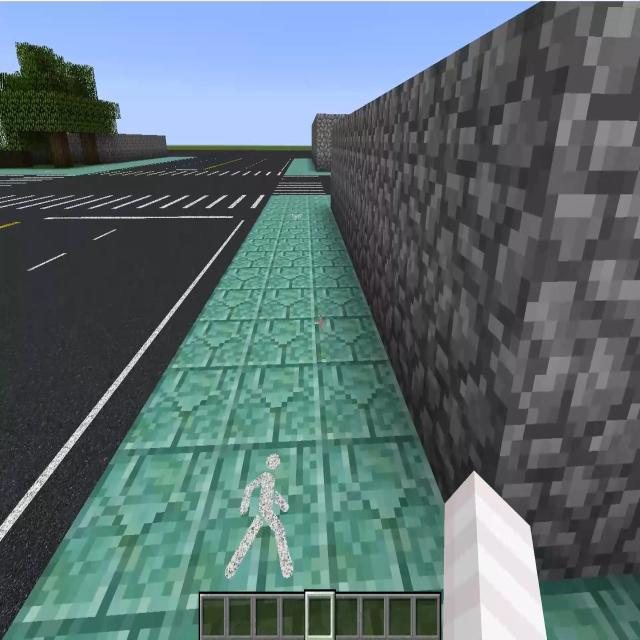crosswalk: (0, 195, 271, 216), (81, 169, 285, 178), (0, 176, 75, 190), (273, 177, 330, 194)
road: (0, 215, 258, 639), (20, 179, 281, 193), (134, 158, 292, 171)
sidewalk: (7, 194, 445, 639), (0, 156, 190, 175), (284, 158, 328, 175)
